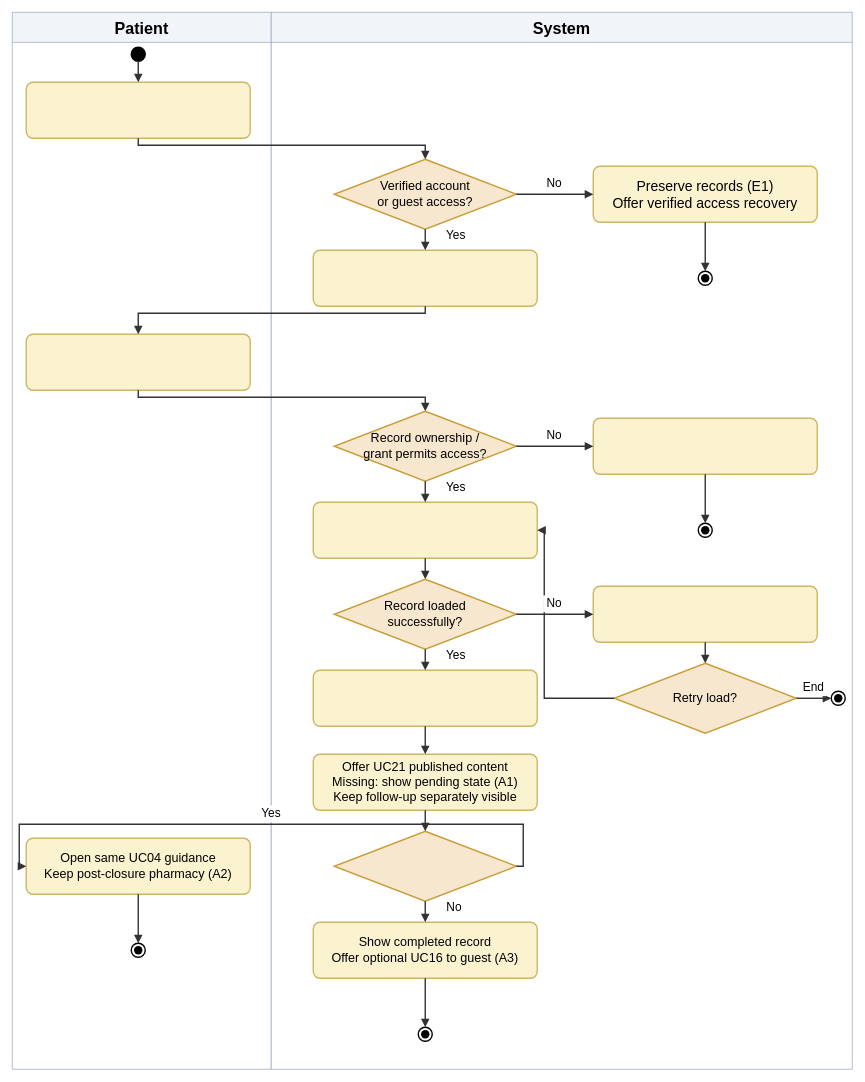
Image size: 865x1082. Some labels were removed from this diagram. Here are the shapes that lost their labels. From the top down, the centre of each, then its label:
the point at 138,110: Open history / existing Visit
the point at 425,278: List account-linked Visits or current guest context only
the point at 138,362: Select permitted Visit
the point at 705,446: Deny another patient record Return to permitted records (E2)
the point at 425,530: Load confirmed record Separate Visit and Journey statuses
the point at 705,614: Show failure / stale data (E3) Retain last confirmed information
the point at 425,698: Display reception/progress Source and author information
the point at 579,686: Retry
the point at 425,866: Journey unfinished?
